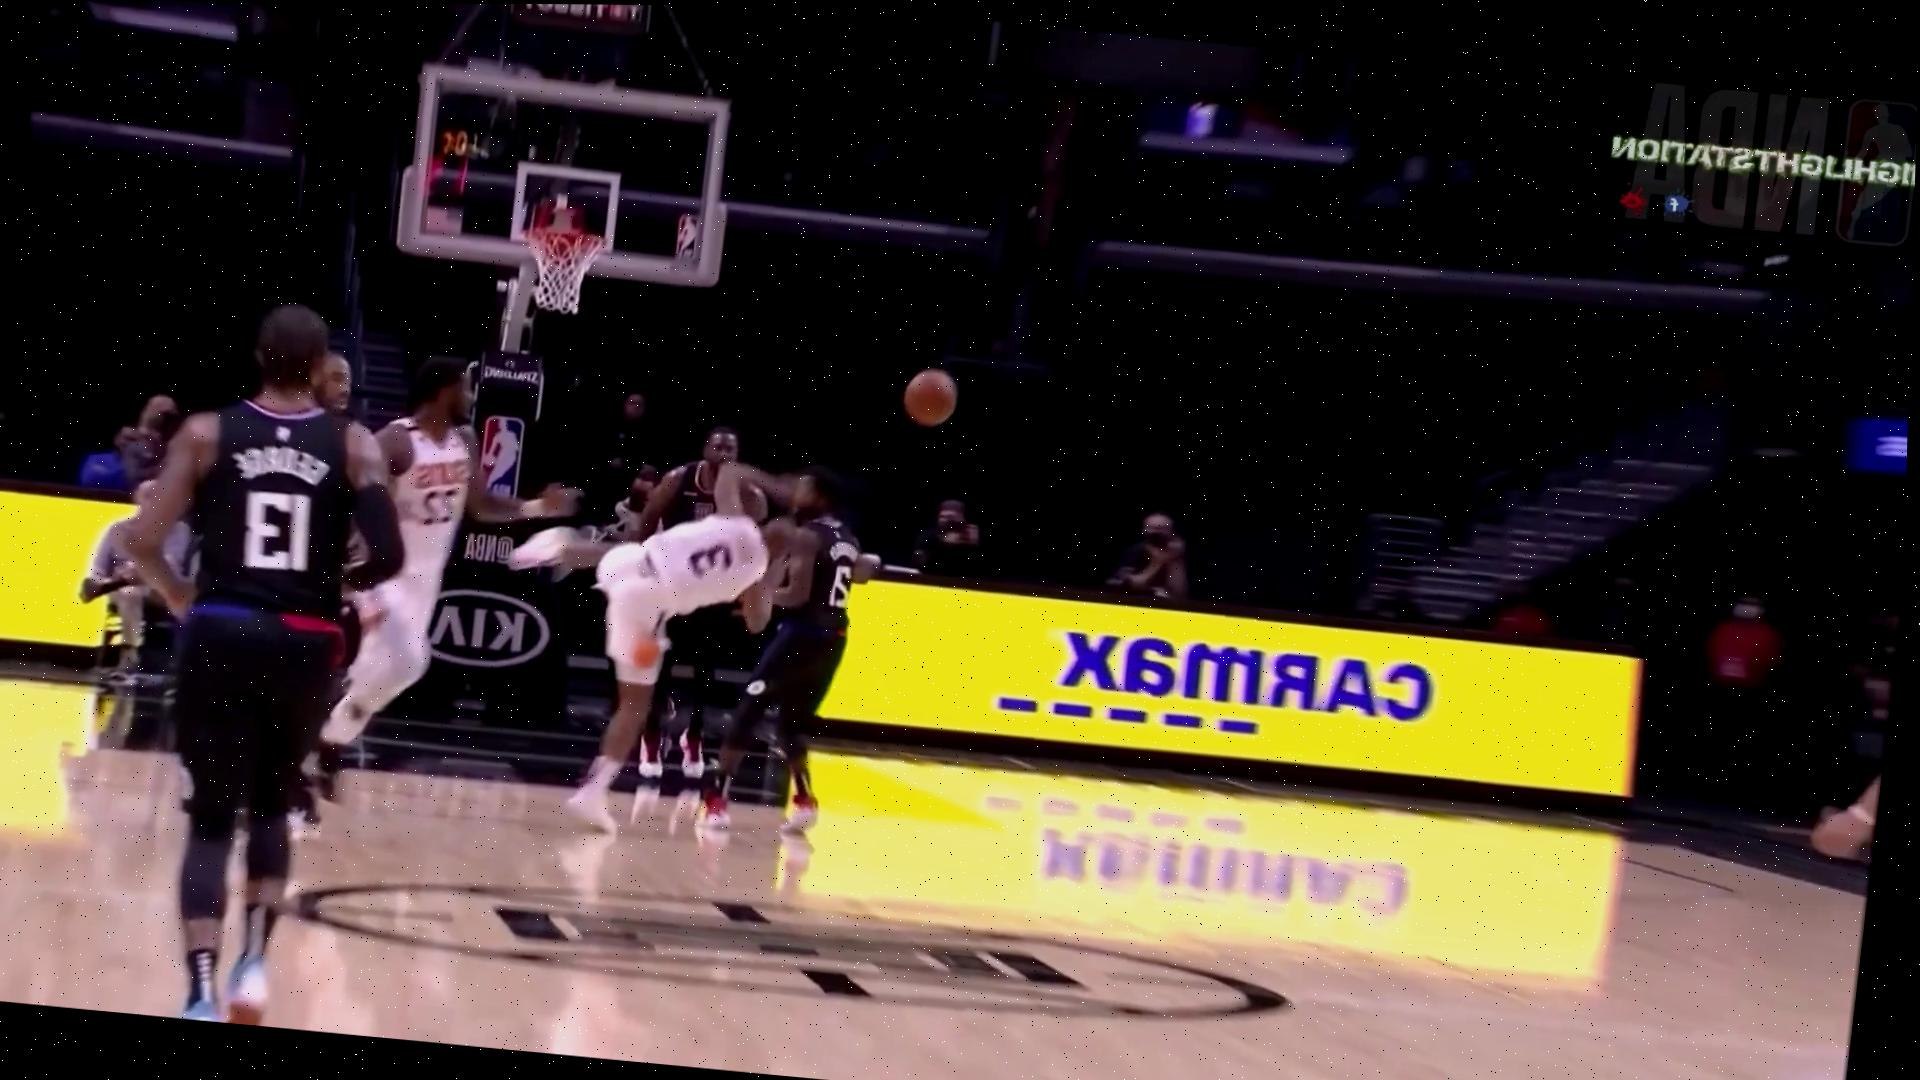foul: (538, 430, 902, 852)
